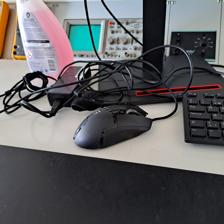mouse: (72, 103, 152, 149)
